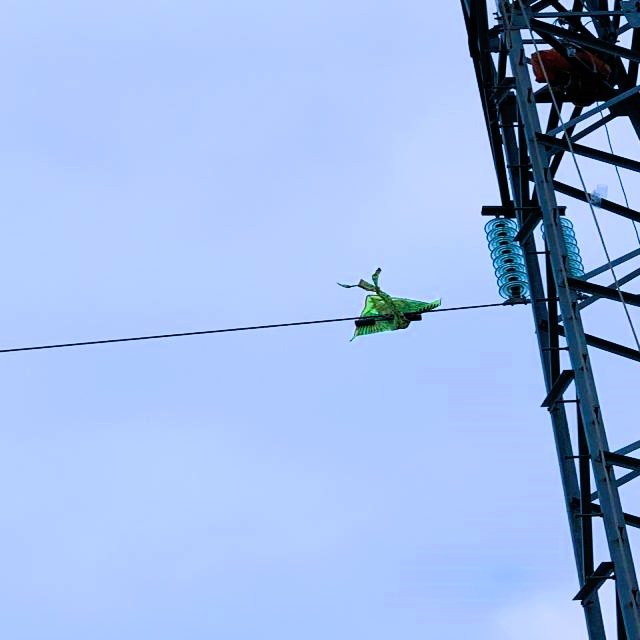wire foreign body: (332, 272, 447, 354)
